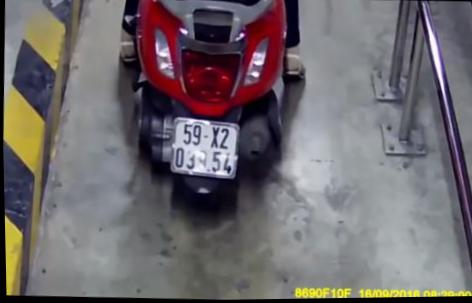LP: (164, 113, 243, 184)
